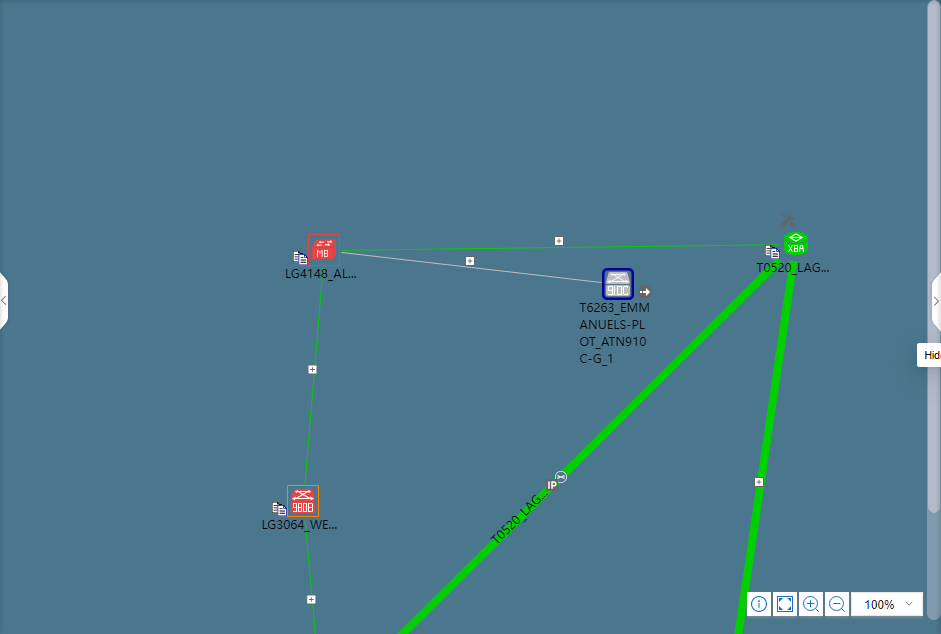ATN_Gray: (602, 269, 633, 299)
ATN_Red: (288, 488, 317, 517)
Link_Gray: (341, 252, 602, 285)
Link_Green: (396, 258, 782, 634), (733, 259, 798, 634), (303, 268, 324, 485), (342, 243, 779, 252), (302, 519, 319, 634)
Router_Green: (783, 232, 807, 255)
Switch_Red: (309, 235, 339, 260)
